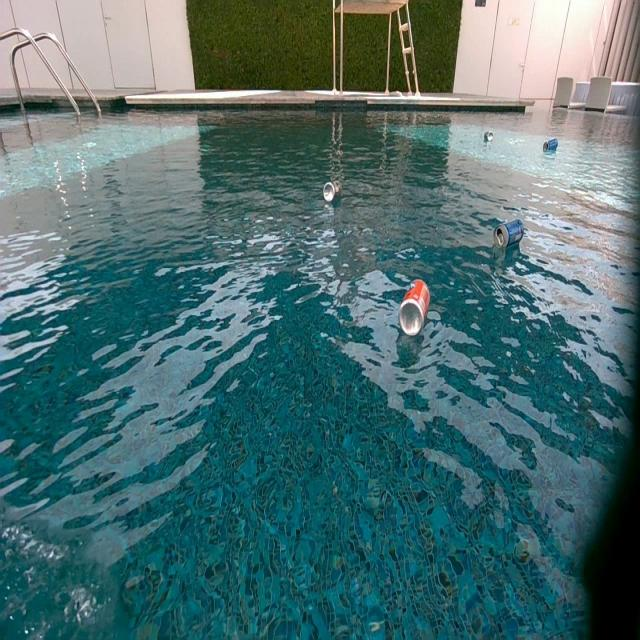Cans: (399, 279, 430, 339), (496, 220, 526, 253), (322, 182, 338, 202), (542, 138, 557, 152), (485, 131, 495, 143)
